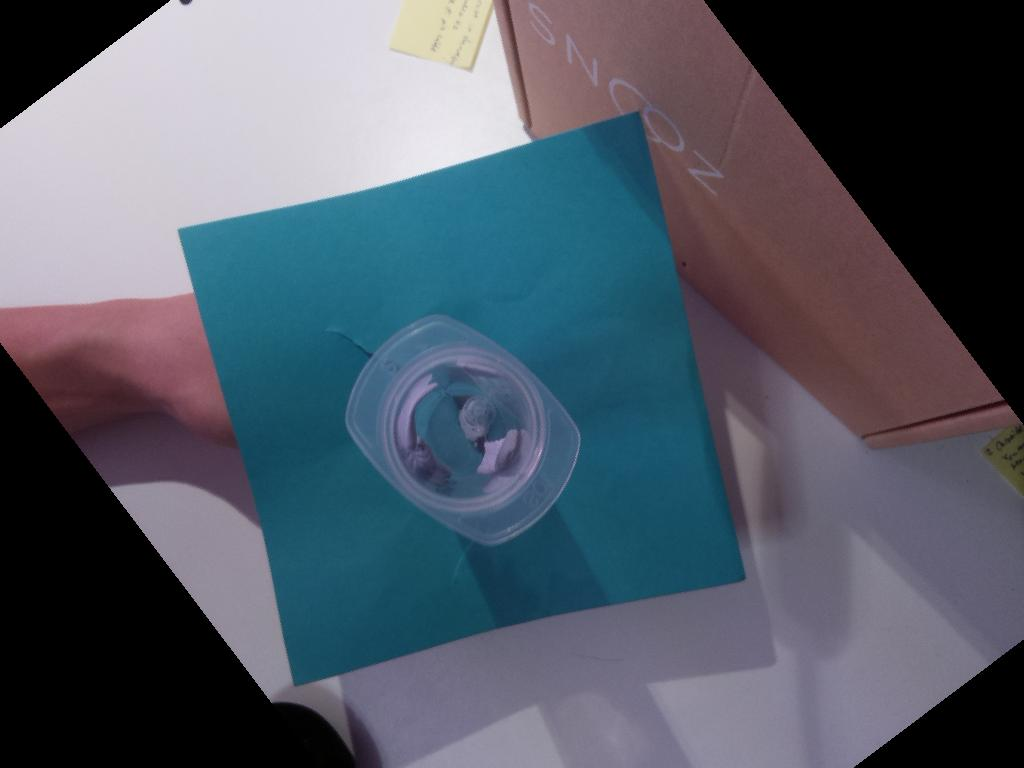dirty: (342, 312, 582, 548)
